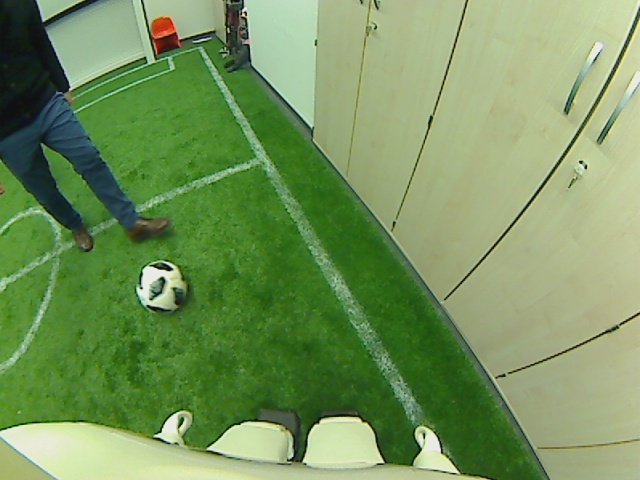ball: (135, 259, 188, 312)
